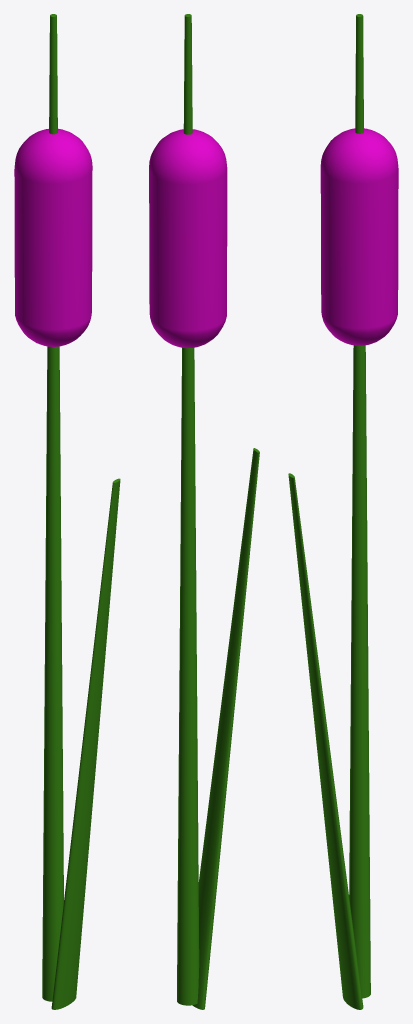
Rendered from CattailColored2.fbx.
3 renders of one model, left to right at view 1: azimuth 90°, elevation 25°; view 2: azimuth 150°, elevation 25°; view 3: azimuth 330°, elevation 25°, orthographic.
Parts seen in each view (by area): view 1: pSphere3; view 2: pSphere3; view 3: pSphere3.
Part boxes in pixels (x1,y1,x2,y2): pSphere3: [14, 14, 120, 1009]; pSphere3: [149, 14, 259, 1009]; pSphere3: [288, 14, 398, 1009].
Bounding box in the file's own units: 1.67 × 21.08 × 2.05.
